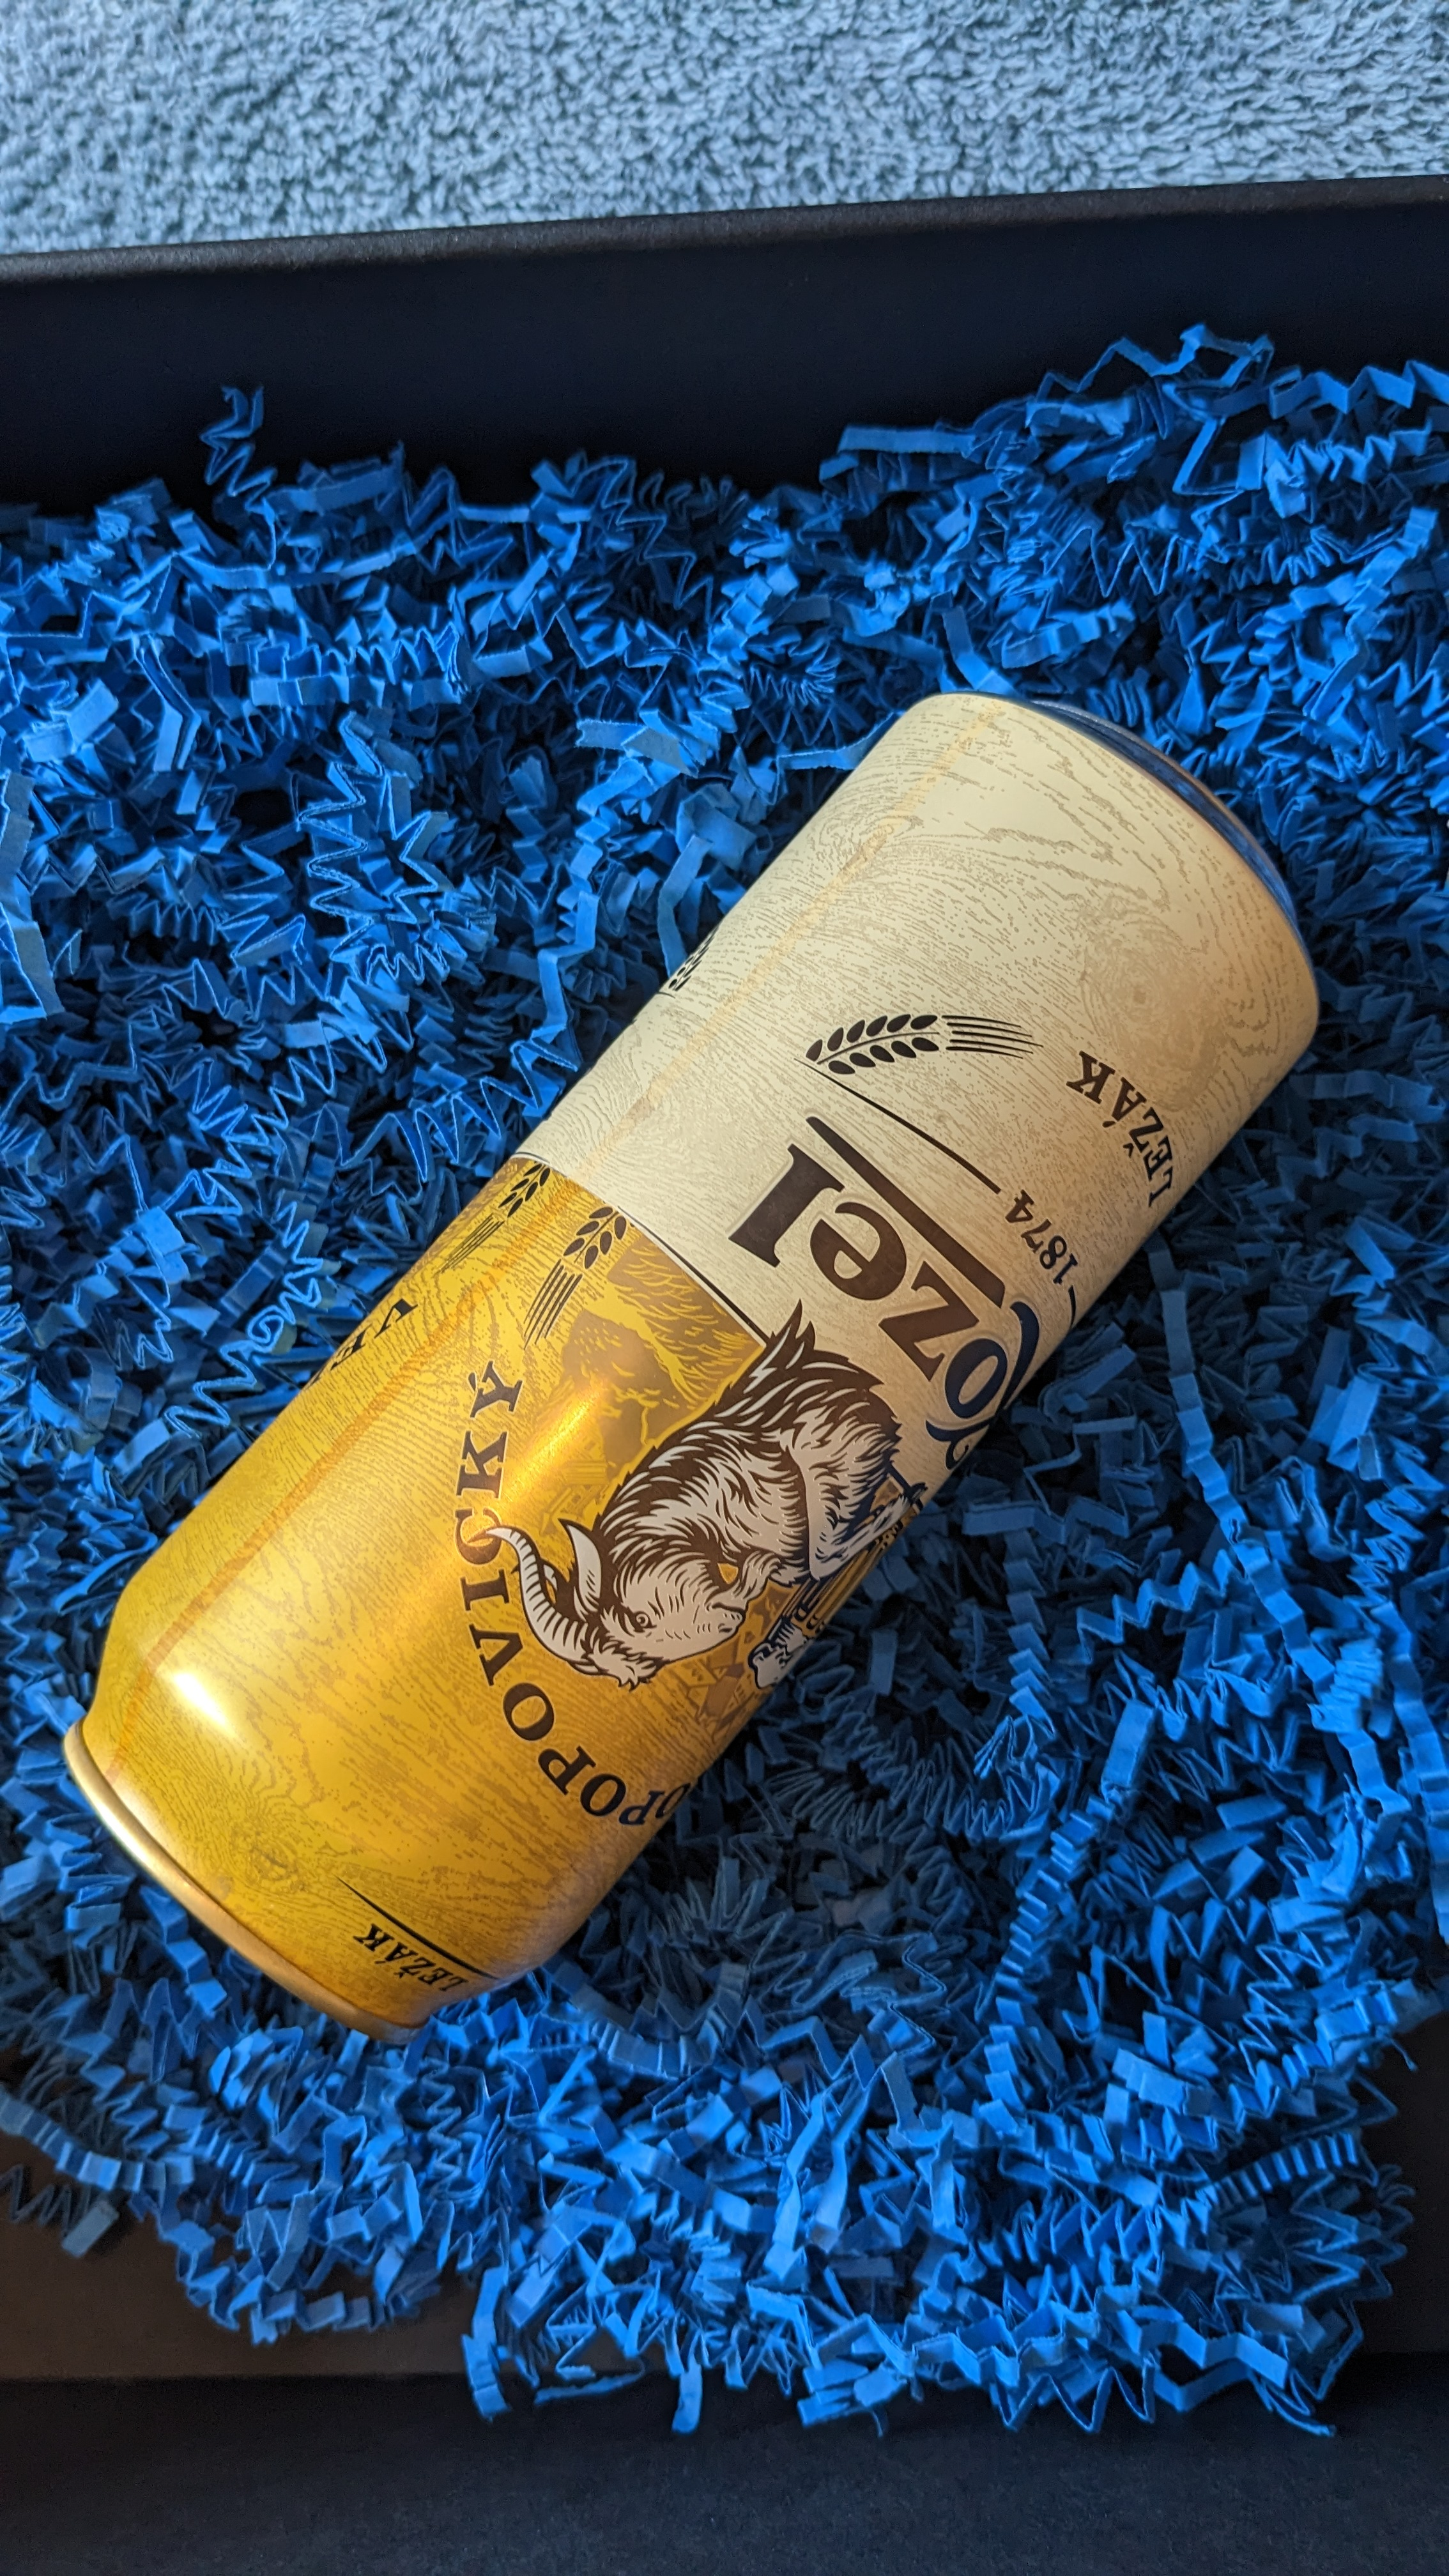kozel: (94, 649, 1338, 2056)
